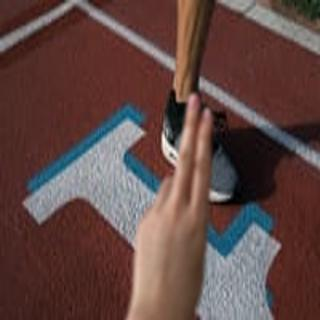DHAVE: (119, 89, 218, 320)
